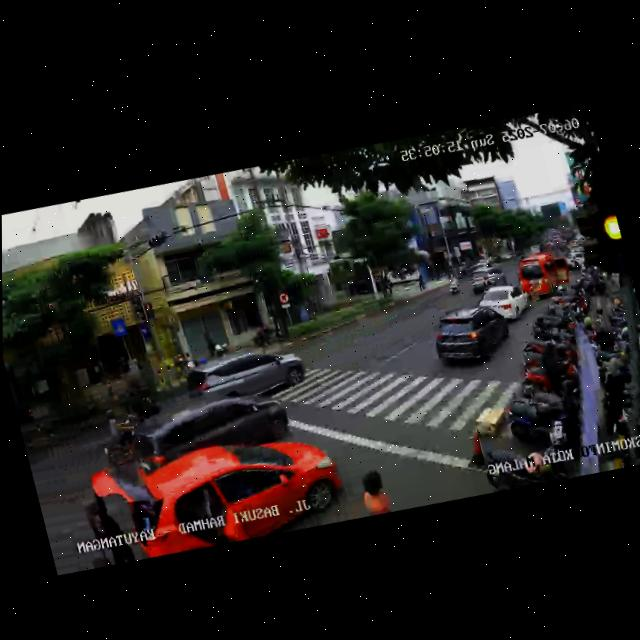car: (160, 416, 351, 560), (132, 377, 295, 475), (175, 328, 310, 418), (426, 295, 517, 380), (515, 246, 575, 305), (473, 278, 533, 329), (468, 262, 508, 293)
motorcycle: (100, 367, 165, 438), (92, 402, 149, 472), (445, 271, 462, 296)
person: (74, 465, 139, 569), (346, 461, 402, 519)
